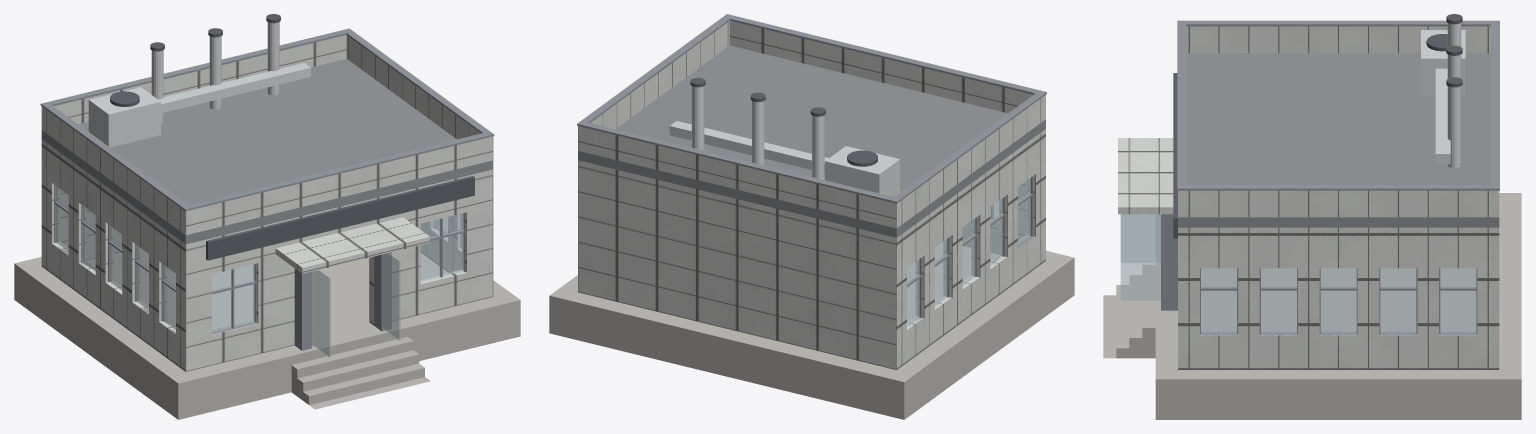
File: spaces-ext-lab.glb
The picture shows the model from 3 angles, left to right: view 1: azimuth 30°, elevation 25°; view 2: azimuth 150°, elevation 25°; view 3: azimuth 270°, elevation 25°; orthographic projection. The views are drawn at different scales.
Parts seen in each view (by area): view 1: lab exterior; view 2: lab exterior; view 3: lab exterior.
Boxes of the visible parts, x1,y1,x2,y2 form: lab exterior: [14, 14, 520, 419]; lab exterior: [549, 14, 1074, 419]; lab exterior: [1103, 14, 1521, 419].
Size of the model in its own units: 11.8 by 8.2 by 11.2.
Materials: 7 (1 with a texture image).
